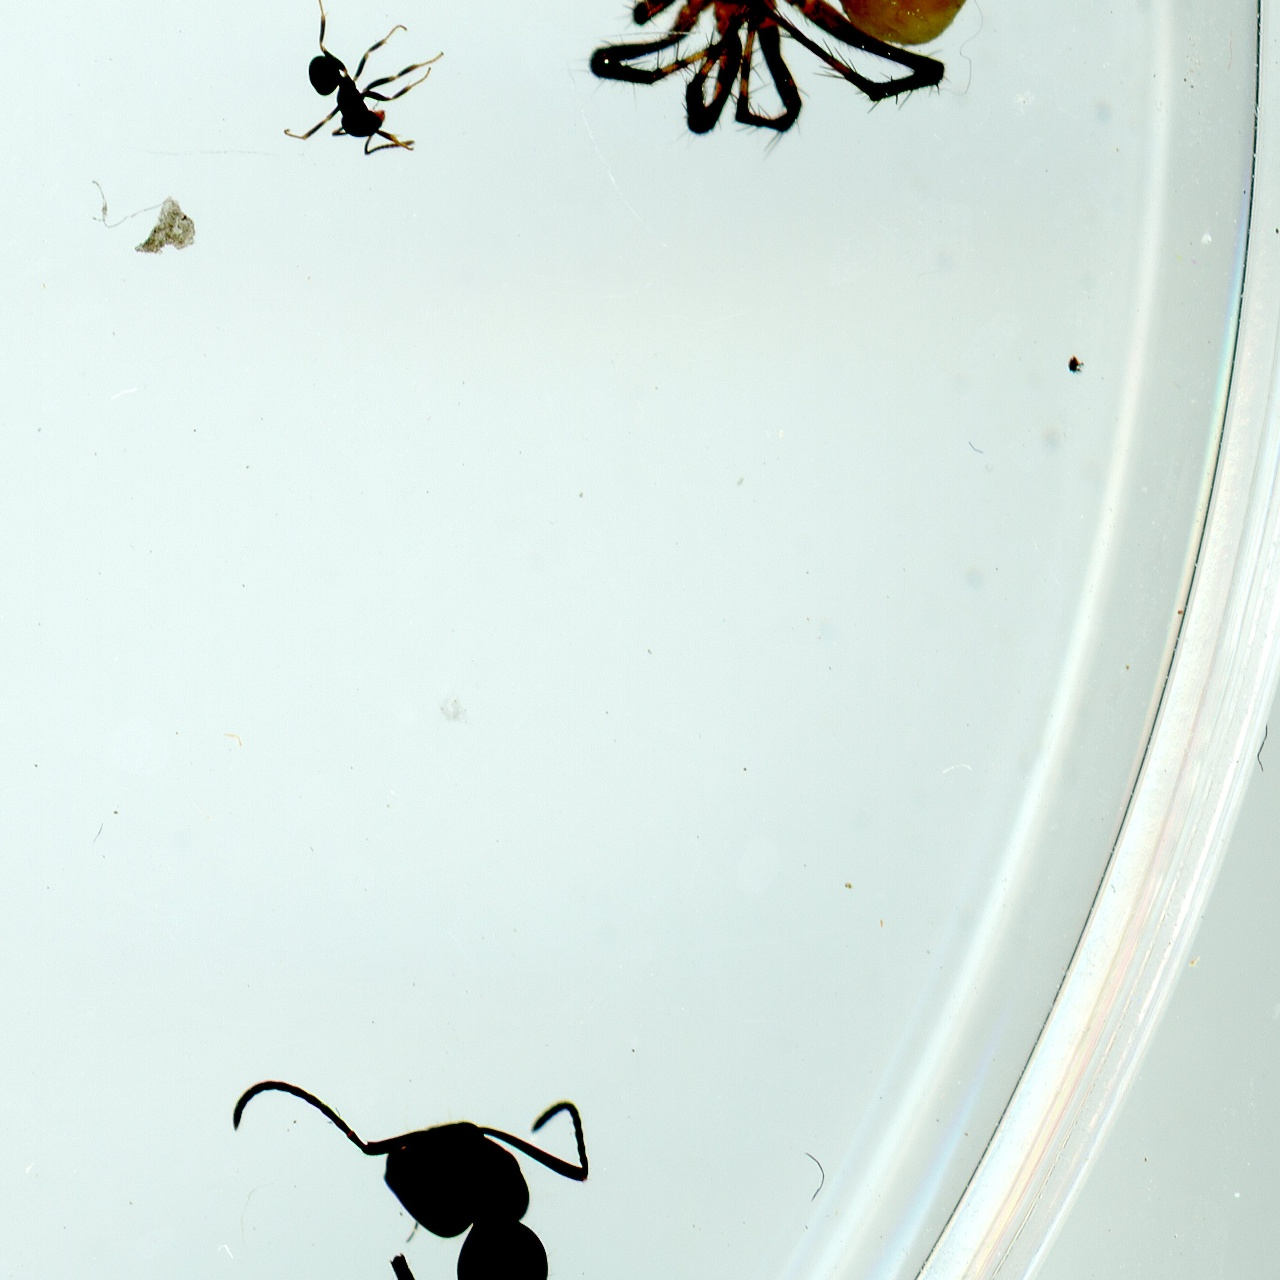arthropod: (213, 1043, 607, 1280), (573, 0, 982, 162), (281, 0, 449, 156)
